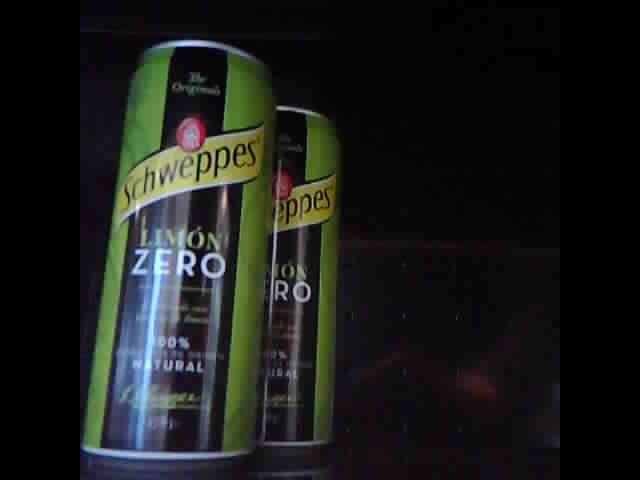schweppes: (77, 30, 276, 467), (254, 81, 344, 455)
